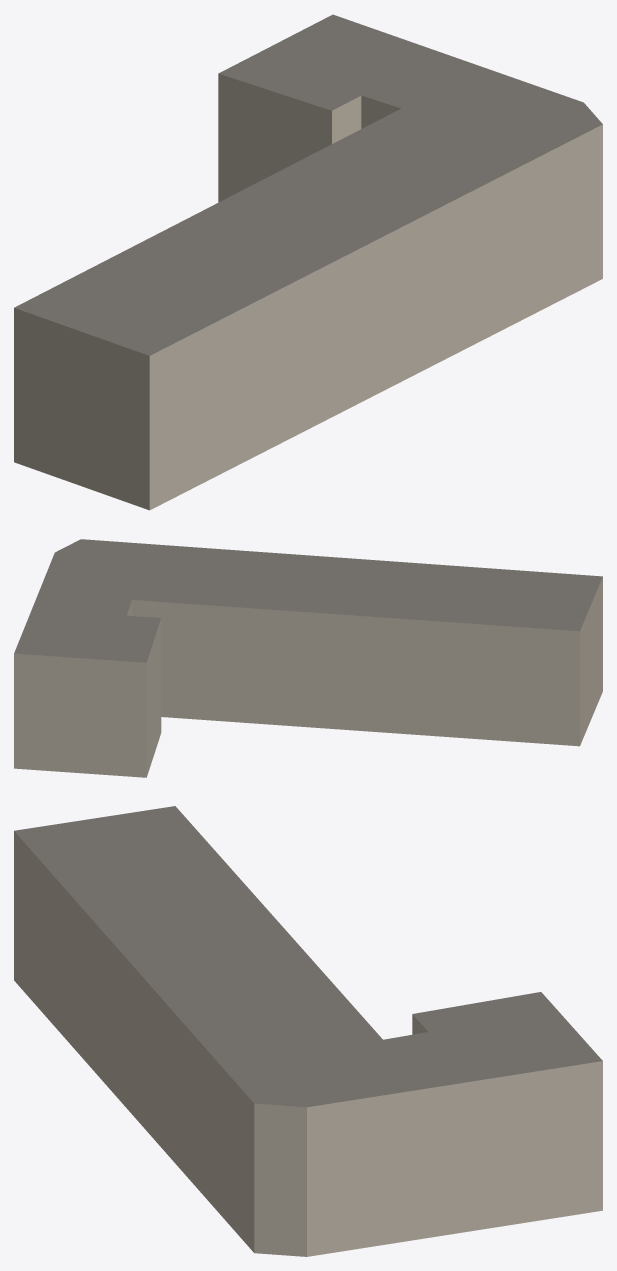
The picture shows the model from 3 angles, top to bottom: view 1: azimuth 30°, elevation 25°; view 2: azimuth 150°, elevation 25°; view 3: azimuth 270°, elevation 25°; orthographic projection. The views are drawn at different scales.
Parts seen in each view (by area): view 1: HP-w1197020936; view 2: HP-w1197020936; view 3: HP-w1197020936.
Part boxes in pixels (x1=…): HP-w1197020936: x1=14, y1=14, x2=602, y2=510; HP-w1197020936: x1=14, y1=539, x2=602, y2=777; HP-w1197020936: x1=14, y1=806, x2=602, y2=1256.
Bounding box in the file's own units: 51.83 × 12 × 42.81.
